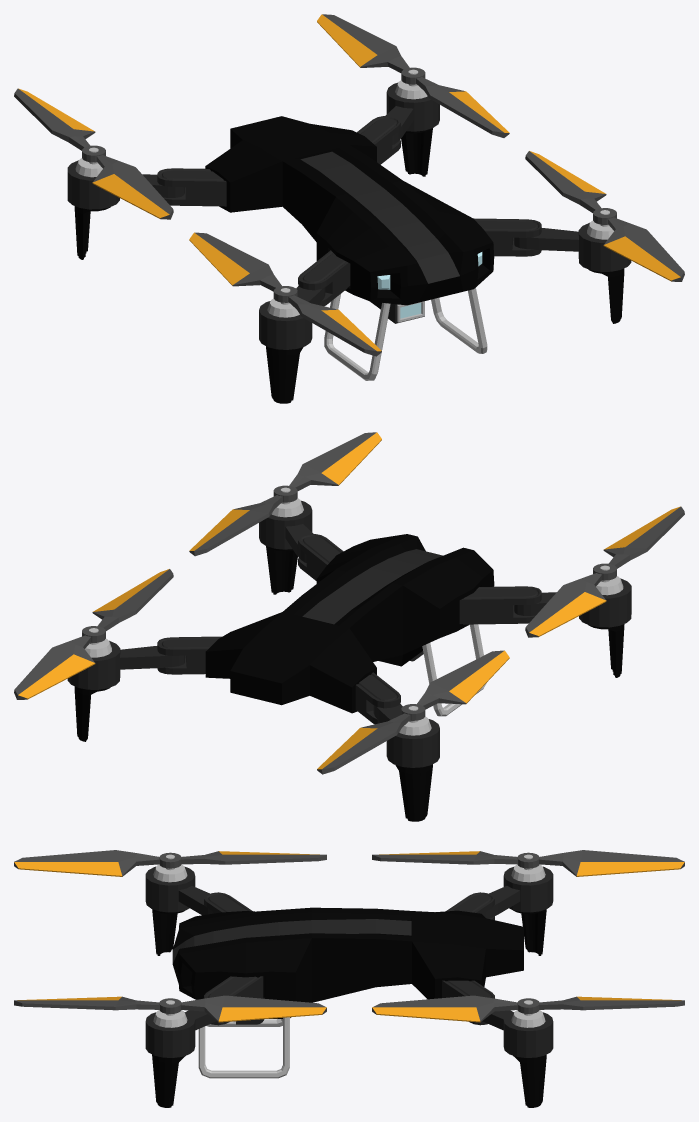
File: Drone_Fix_2.glb
3 views of the same model, one above another, from view 1: azimuth 30°, elevation 25°; view 2: azimuth 150°, elevation 25°; view 3: azimuth 270°, elevation 25° (orthographic). The views are drawn at different scales.
Parts seen in each view (by area): view 1: Body, Rotor_BL, Rotor_FR, Rotor_BR, Rotor_FL, Cube.002; view 2: Body, Rotor_FL, Rotor_BR, Rotor_FR, Rotor_BL; view 3: Body, Rotor_FR, Rotor_BR, Rotor_FL, Rotor_BL.
Part boxes in pixels (x1,y1,x2,y2): Body: [67, 69, 631, 403]; Rotor_BL: [317, 14, 509, 137]; Rotor_FR: [189, 232, 381, 356]; Rotor_BR: [14, 88, 173, 219]; Rotor_FL: [525, 151, 684, 281]; Cube.002: [388, 301, 424, 323]; Body: [67, 487, 631, 821]; Rotor_FL: [189, 432, 381, 556]; Rotor_BR: [317, 650, 509, 774]; Rotor_FR: [525, 506, 684, 637]; Rotor_BL: [14, 569, 173, 699]; Body: [145, 854, 553, 1107]; Rotor_FR: [14, 850, 326, 876]; Rotor_BR: [372, 850, 684, 876]; Rotor_FL: [14, 995, 326, 1022]; Rotor_BL: [372, 995, 684, 1022].
Bounding box in the file's own units: 1.17 × 0.4152 × 1.95.
1 material, 1 textured.
